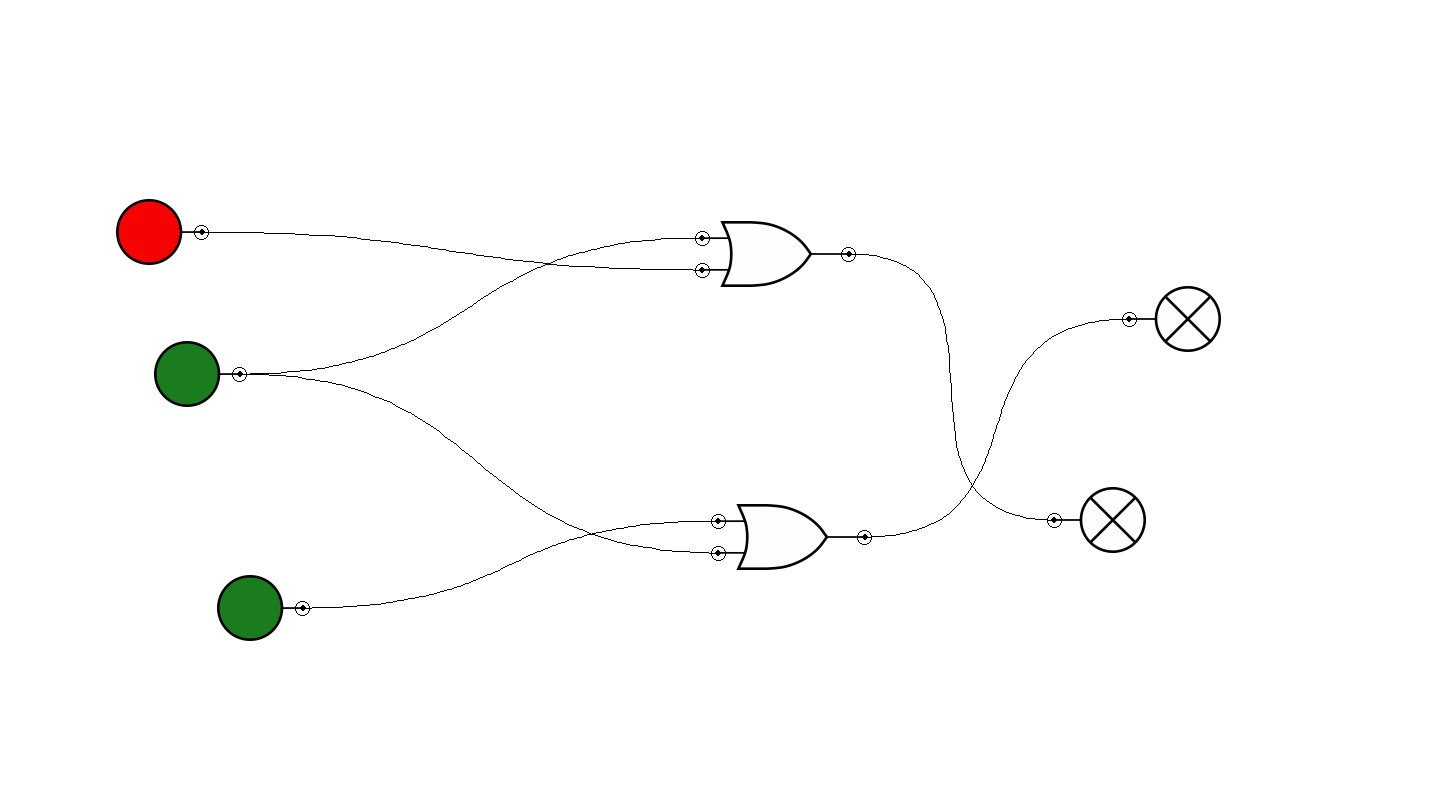bulb: (1047, 487, 1146, 553), (1122, 286, 1221, 352)
or: (695, 221, 856, 287), (711, 504, 872, 570)
switch_False: (116, 199, 209, 265)
switch_True: (217, 575, 310, 641), (154, 341, 247, 407)
